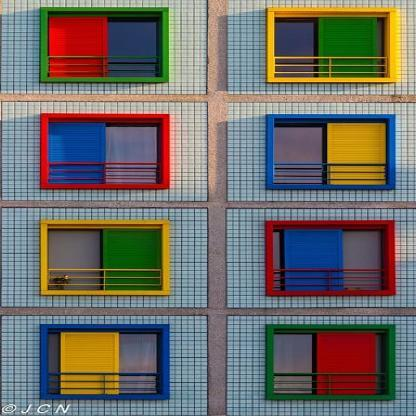Building Outline: (0, 0, 416, 416)
Dont: (3, 403, 71, 415)
Facade: (0, 0, 416, 416)
Floor: (0, 315, 414, 416), (0, 208, 414, 308), (0, 101, 414, 201), (0, 1, 414, 94)
Floor Slab: (1, 95, 415, 102), (0, 201, 414, 208), (0, 308, 414, 315)
Window: (273, 225, 391, 293), (274, 118, 389, 186), (274, 329, 390, 396), (48, 224, 163, 291), (48, 329, 163, 395), (49, 11, 162, 78), (275, 12, 389, 78), (49, 118, 162, 184)
Window Outline: (40, 113, 170, 189), (267, 7, 398, 82), (266, 114, 396, 189), (40, 220, 170, 295), (266, 221, 396, 296), (40, 325, 170, 400), (266, 325, 396, 400), (41, 7, 169, 82)
